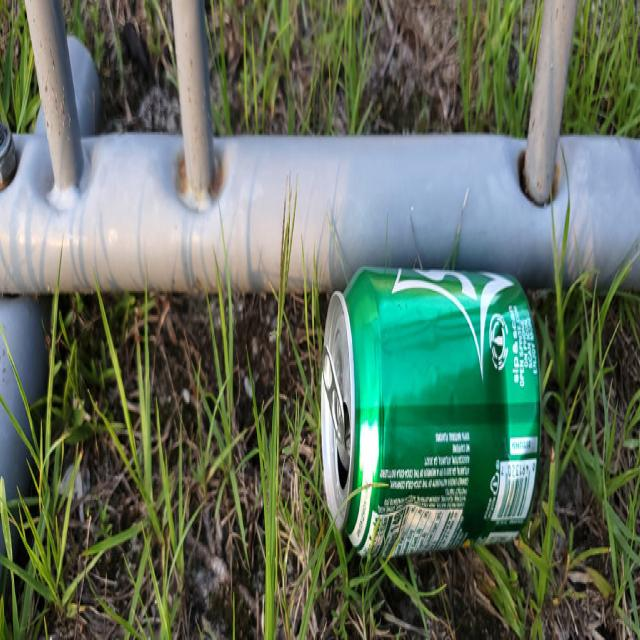aluminum_can: (303, 273, 561, 559)
